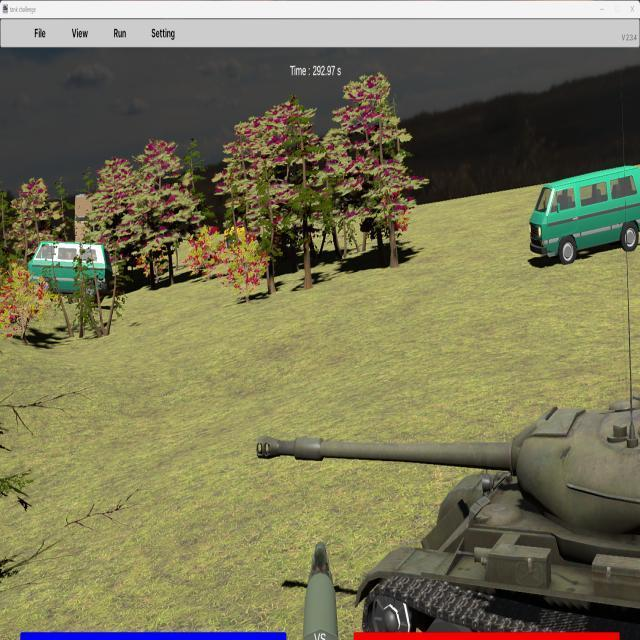Tank: (259, 388, 640, 639)
car: (530, 165, 640, 265), (28, 241, 114, 305)
